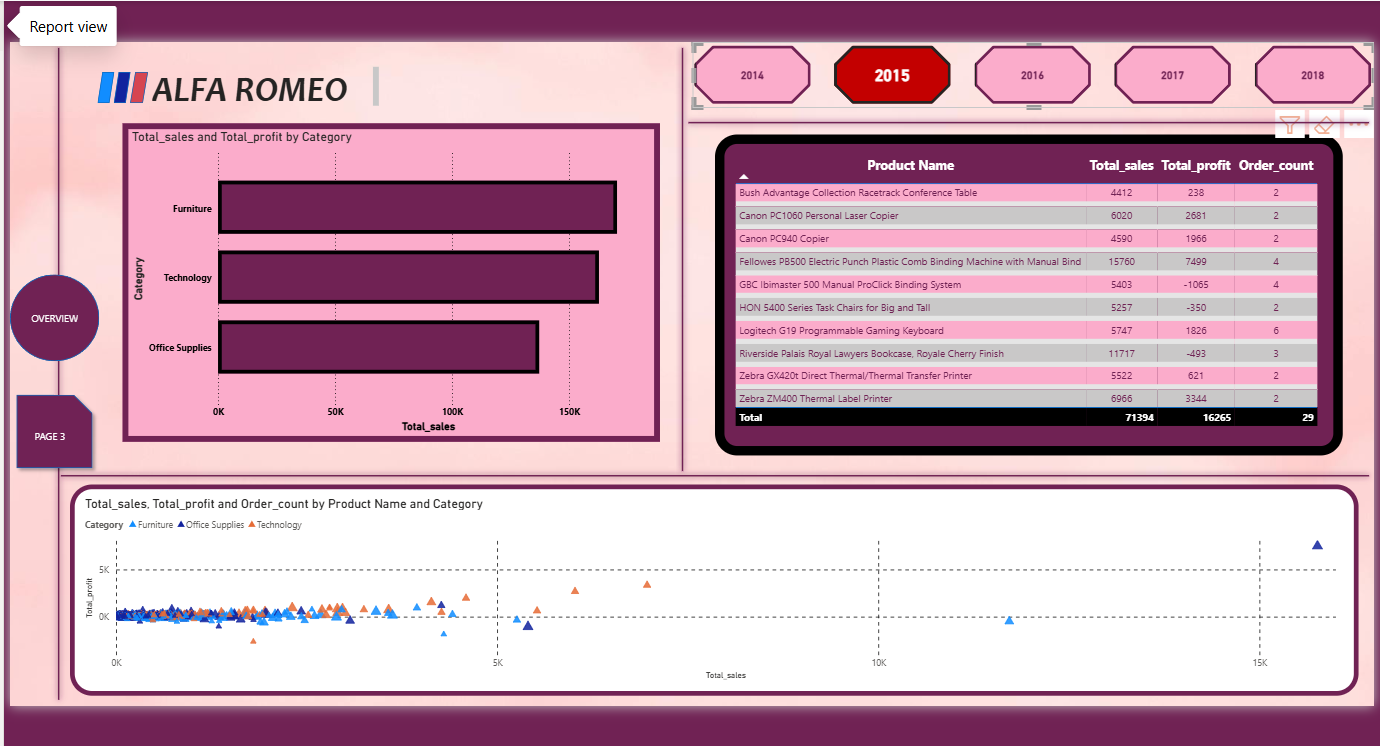

The page's visual inventory and layout, read from the dashboard file:
{"tool":"powerbi","page":{"name":"Page 2","canvas":[1850,900],"ordinal":1},"visuals":[{"type":"shape","box":[117.9,40.7,22.8,42.1],"z":0},{"type":"shape","box":[140.7,40.7,22.8,42.1],"z":1000},{"type":"shape","box":[163.5,40.7,24.6,42.1],"z":2000},{"type":"textbox","box":[187.9,29.3,317.2,65.5],"z":3000},{"type":"shape","box":[43.9,0,43.9,900],"z":4000},{"type":"shape","box":[0,315.8,121.1,117.5],"z":5000},{"type":"clusteredBarChart","fields":{"Category":["Dim_Product.Category"],"Y":["Sample - Superstore.Total_sales"]},"box":[152.5,110.2,728.8,432.2],"z":6000},{"type":"tableEx","fields":{"Values":["Dim_Product.Product Name","Sample - Superstore.Total_sales","Sample - Superstore.Total_profit","Sample - Superstore.Order_count"]},"box":[955.9,125.4,850.8,435.6],"z":7000},{"type":"scatterChart","fields":{"X":["Sample - Superstore.Total_sales"],"Y":["Sample - Superstore.Total_profit"],"Size":["Sample - Superstore.Order_count"],"Series":["Sample - Superstore.Category"],"Category":["Sample - Superstore.Product Name"]},"box":[81.4,600,1747.5,286.4],"z":8000},{"type":"shape","box":[0,469,120.7,117.2],"z":9000},{"type":"advancedSlicerVisual","fields":{"Values":["Dim_Date.Year"]},"box":[925.9,0,924.1,89.7],"z":10000},{"type":"shape","box":[61,561,1789.8,54.2],"z":11000},{"type":"shape","box":[911.9,61,939,96.6],"z":12000},{"type":"shape","box":[898.3,0,27.1,589.8],"z":13000}]}

Visuals, with their boxes on the page's 1850x900 design canvas (x1, y1, x2, y2). These are canvas units, not pixel positions in the 1380x746 screenshot, which may show the page scaled, cropped or inside an application window:
shape: bbox=[118, 41, 141, 83]
shape: bbox=[141, 41, 164, 83]
shape: bbox=[164, 41, 188, 83]
textbox: bbox=[188, 29, 505, 95]
shape: bbox=[44, 0, 88, 900]
shape: bbox=[0, 316, 121, 433]
clusteredBarChart - Dim_Product.Category x Sample - Superstore.Total_sales: bbox=[152, 110, 881, 542]
tableEx - Dim_Product.Product Name x Sample - Superstore.Total_sales: bbox=[956, 125, 1807, 561]
scatterChart - Sample - Superstore.Total_sales x Sample - Superstore.Total_profit: bbox=[81, 600, 1829, 886]
shape: bbox=[0, 469, 121, 586]
advancedSlicerVisual - Dim_Date.Year: bbox=[926, 0, 1850, 90]
shape: bbox=[61, 561, 1851, 615]
shape: bbox=[912, 61, 1851, 158]
shape: bbox=[898, 0, 925, 590]
